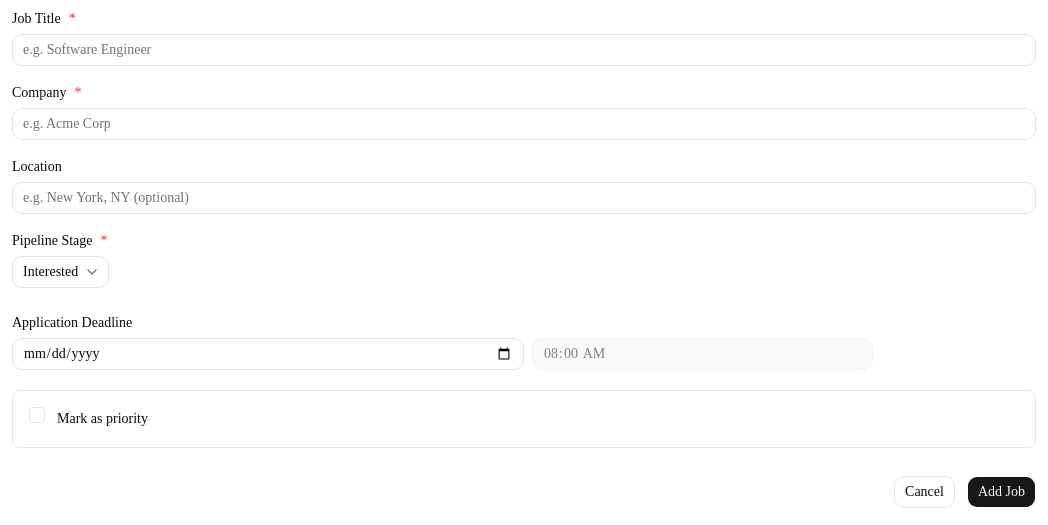
Test case: SCRUM-25 - JobForm › loading state: disables controls while submitting
The image size is (1048, 525).
Type "Frontend Engineer" into the field with placeholder "e.g. Software Engineer" at (524, 50), box [12,34,1036,66]
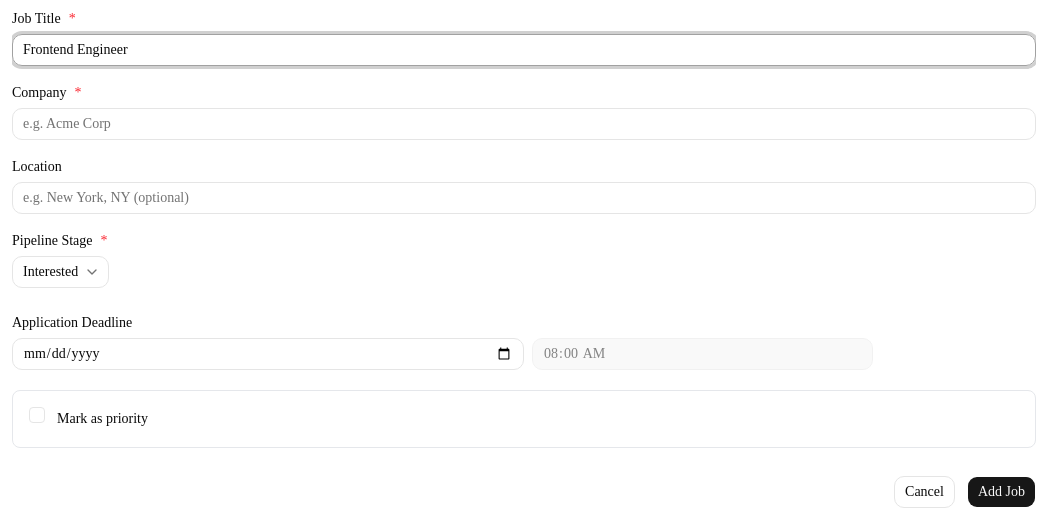
Type "Acme" into the field with placeholder "e.g. Acme Corp" at (524, 124), box [12,108,1036,140]
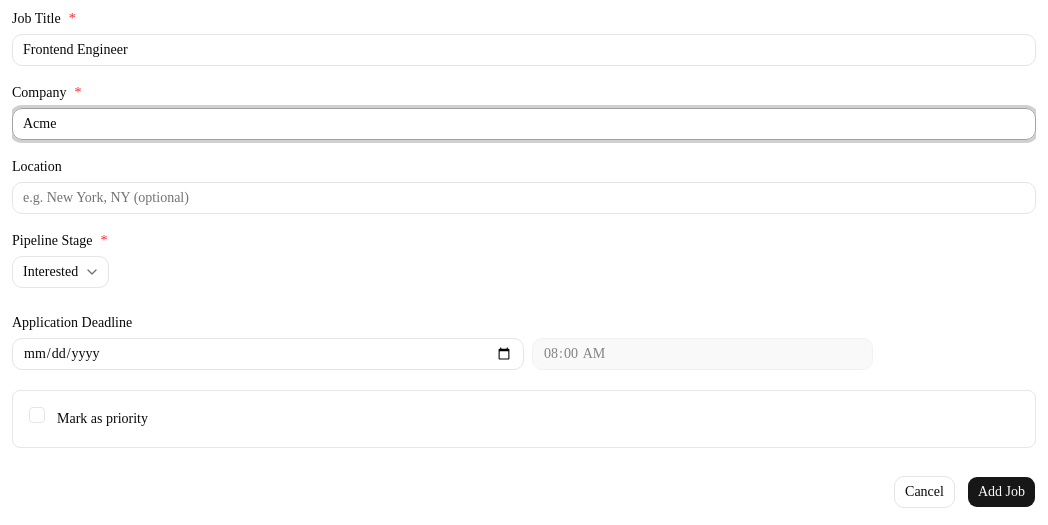
Type "Remote" into the field with placeholder "e.g. New York, NY (optional)" at (524, 198), box [12,182,1036,214]
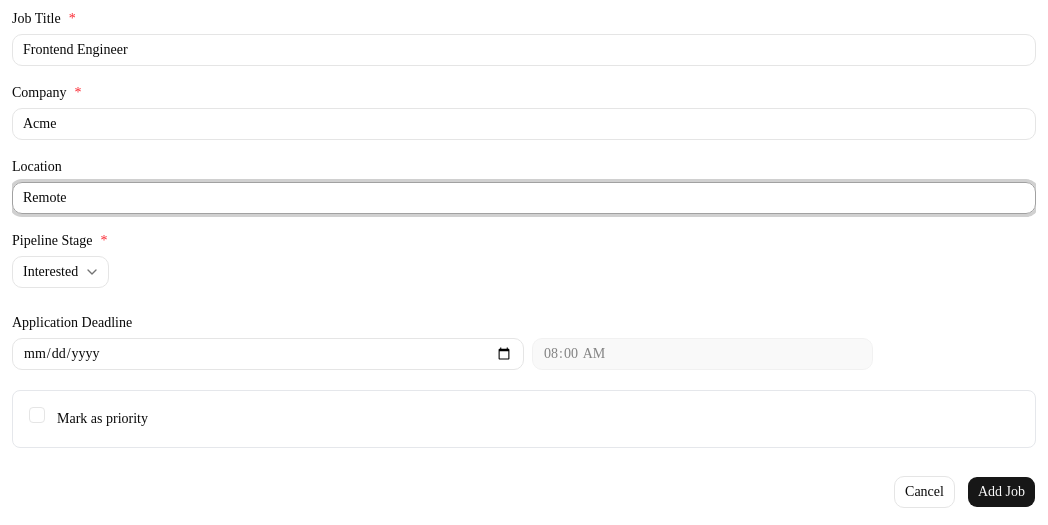
Click the submit button at (1001, 492), box [967,476,1036,508]
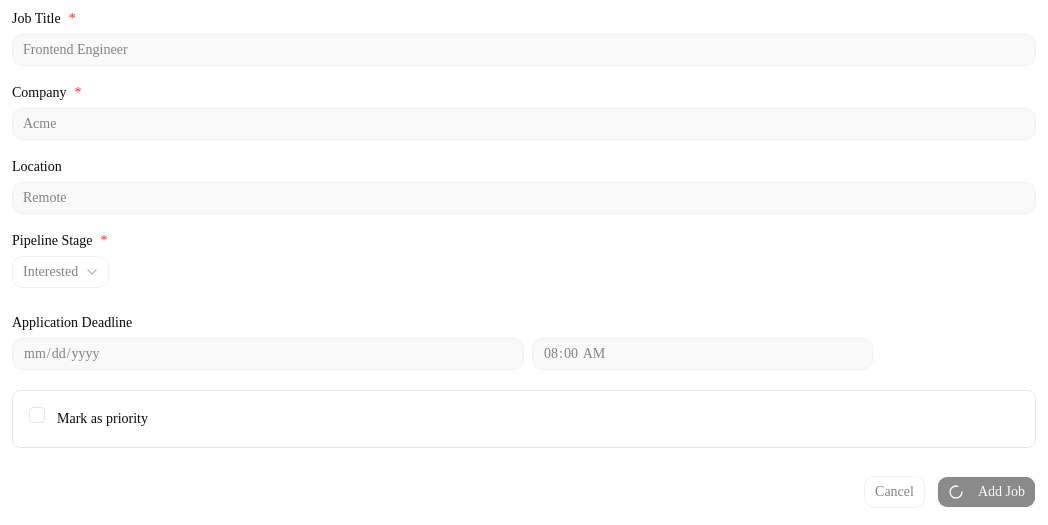
Now the field with placeholder "e.g. Software Engineer" is disabled, box [12,34,1036,66]
Now the field with placeholder "e.g. Acme Corp" is disabled, box [12,108,1036,140]
Now the field with placeholder "e.g. New York, NY (optional)" is disabled, box [12,182,1036,214]
